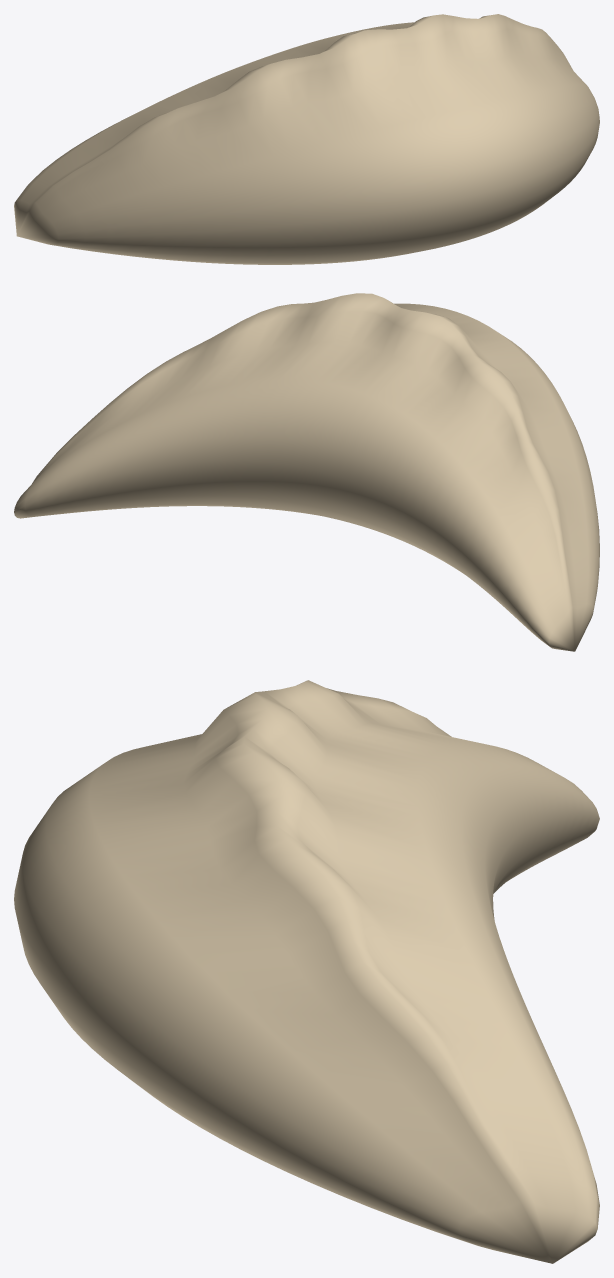
The model's file is NEW_RECOVERY_043_LOD2.fbx.
3 views of the same model, one above another, from view 1: azimuth 30°, elevation 25°; view 2: azimuth 150°, elevation 25°; view 3: azimuth 270°, elevation 25° (orthographic). The views are drawn at different scales.
Parts seen in each view (by area): view 1: Whole crescent dumpling; view 2: Whole crescent dumpling; view 3: Whole crescent dumpling.
Part boxes in pixels (<box>): Whole crescent dumpling: <box>14,14,599,264</box>; Whole crescent dumpling: <box>14,293,599,651</box>; Whole crescent dumpling: <box>14,680,599,1263</box>.
Bounding box in the file's own units: 200 × 117 × 72.32.
